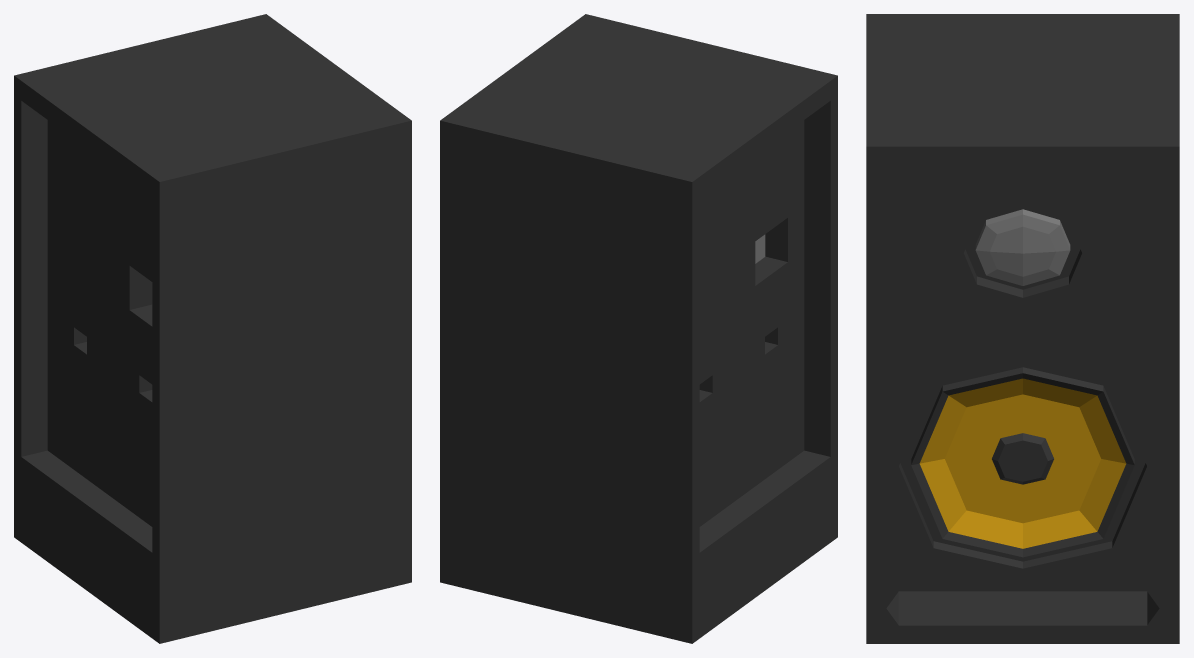
File: Speaker.fbx
3 renders of one model, left to right at view 1: azimuth 30°, elevation 25°; view 2: azimuth 150°, elevation 25°; view 3: azimuth 270°, elevation 25°, orthographic. The views are drawn at different scales.
Visible parts, largest first — view 1: Speaker; view 2: Speaker; view 3: Speaker.
Part boxes in pixels (bbox=[...]): Speaker: bbox=[14, 14, 411, 643]; Speaker: bbox=[440, 14, 837, 643]; Speaker: bbox=[866, 14, 1179, 643].
Size of the model in its own units: 401 by 700 by 400.
